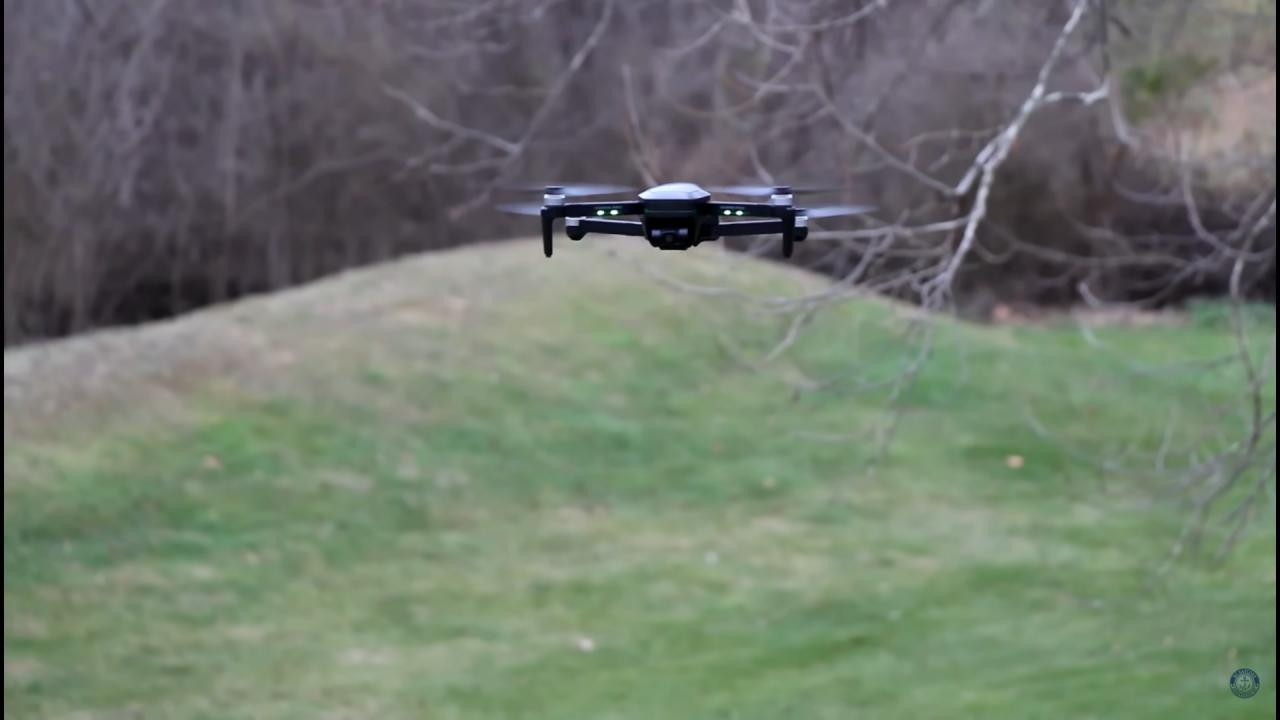Drone: (470, 156, 898, 272)
